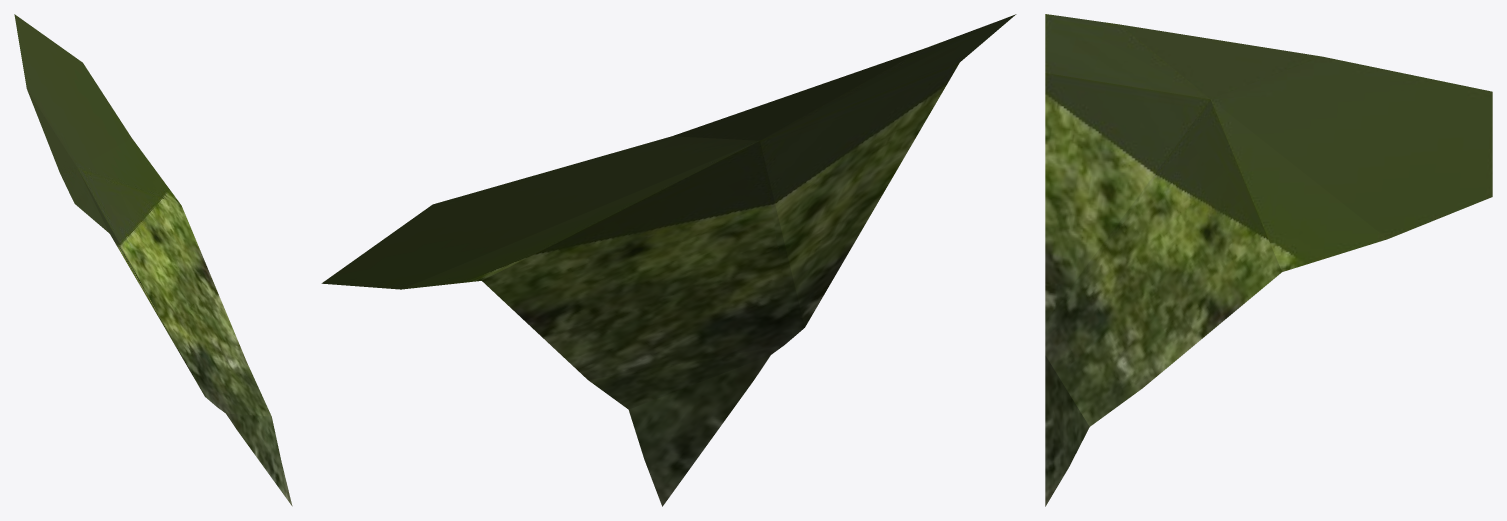
3 views of the same model, side by side, from view 1: azimuth 30°, elevation 25°; view 2: azimuth 150°, elevation 25°; view 3: azimuth 270°, elevation 25° (orthographic). The views are drawn at different scales.
Size of the model in its own units: 1.77 by 2.76 by 2.95.
Materials: 2 (2 with a texture image).
